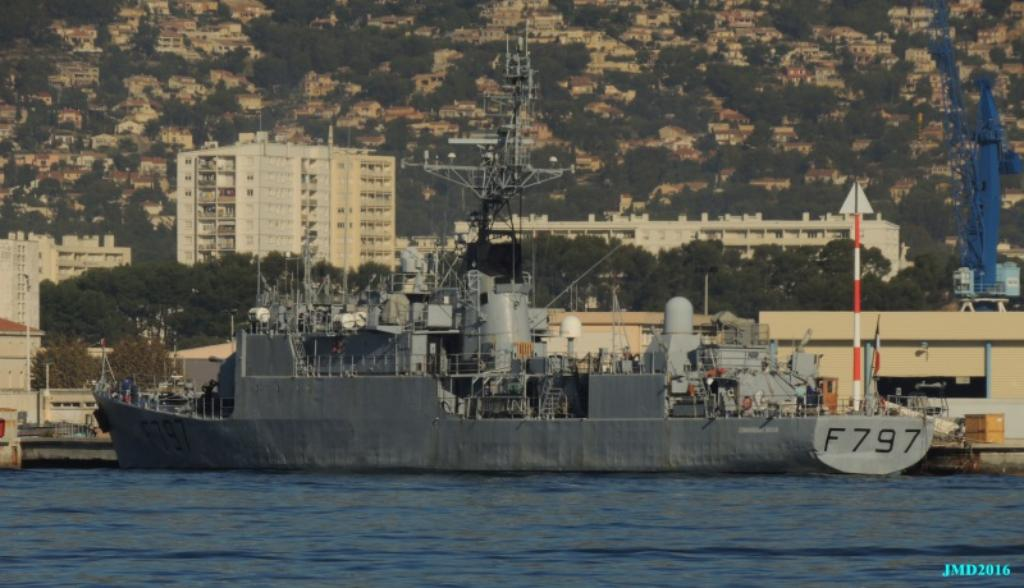Warship: (88, 17, 936, 478)
